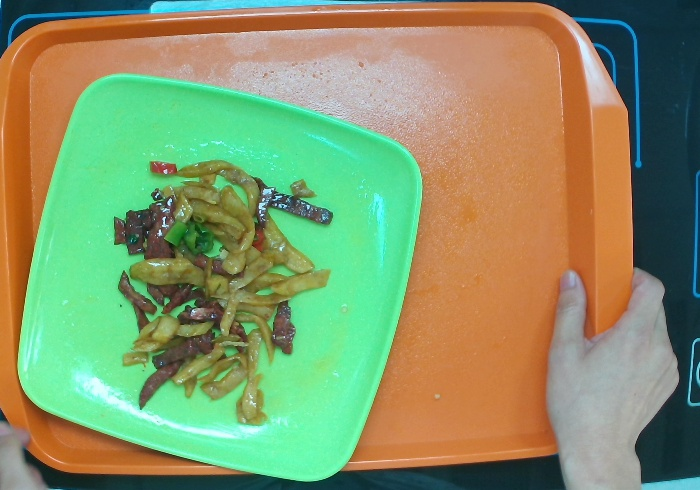ZNLD-Lv_Fang_Pan: (9, 73, 428, 485)
